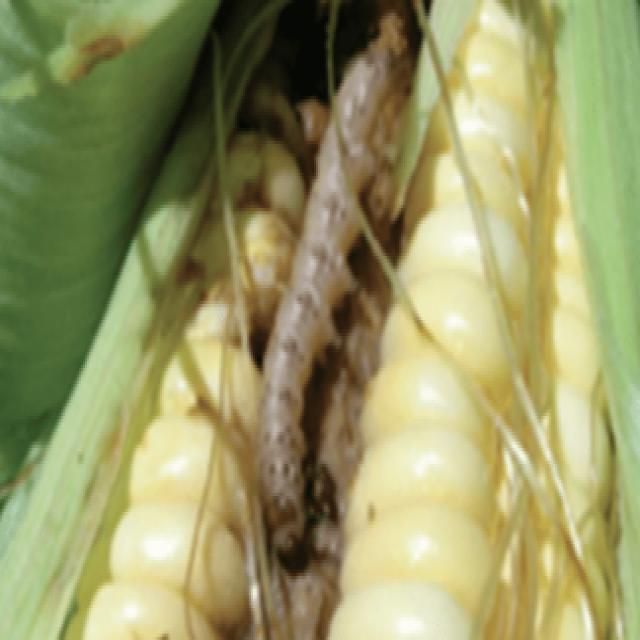cornborer-Larva-: (239, 27, 409, 583)
